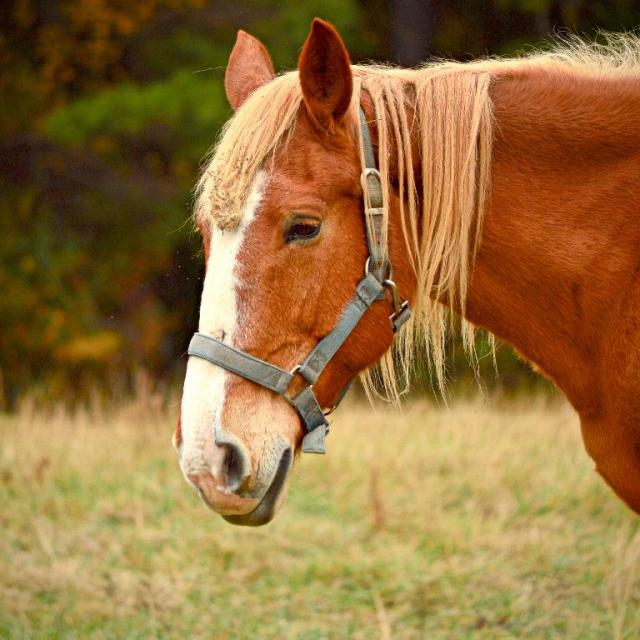Horse: (171, 13, 639, 527)
